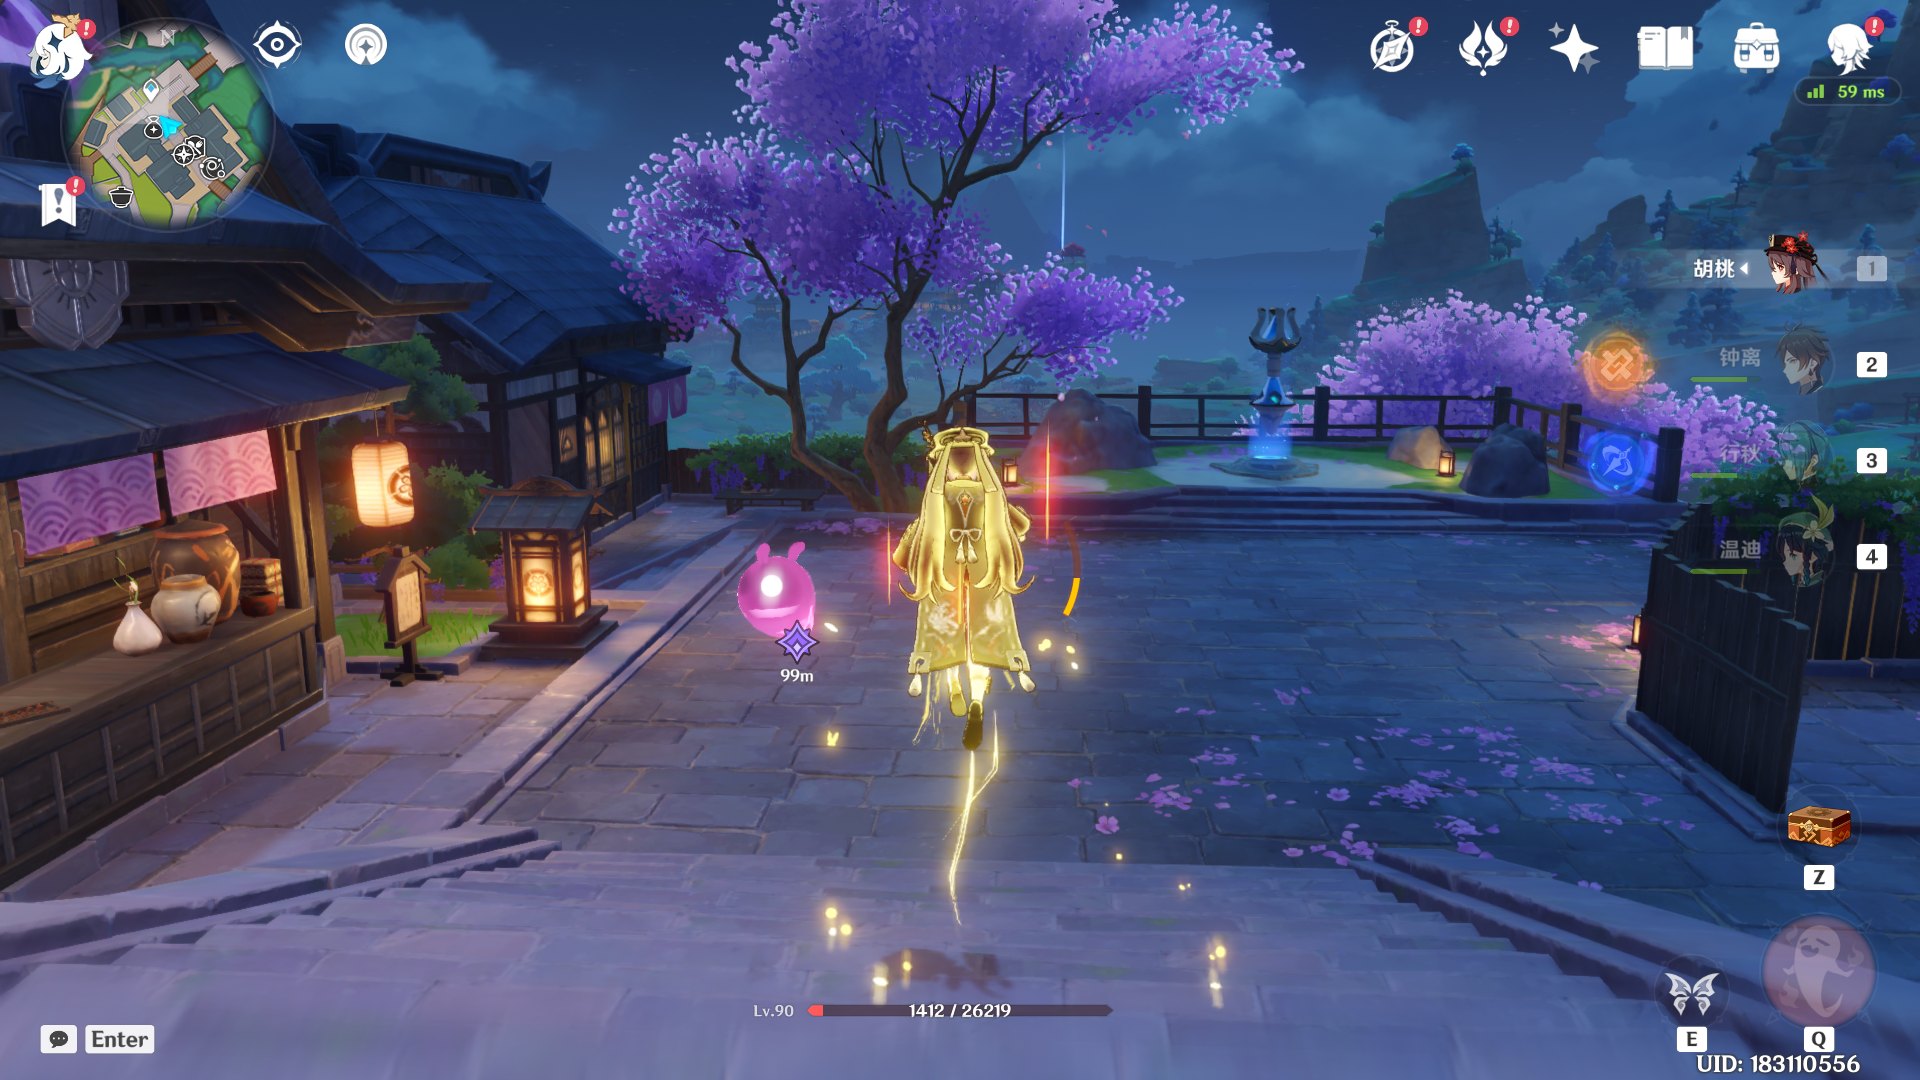character: (825, 396, 1101, 770)
